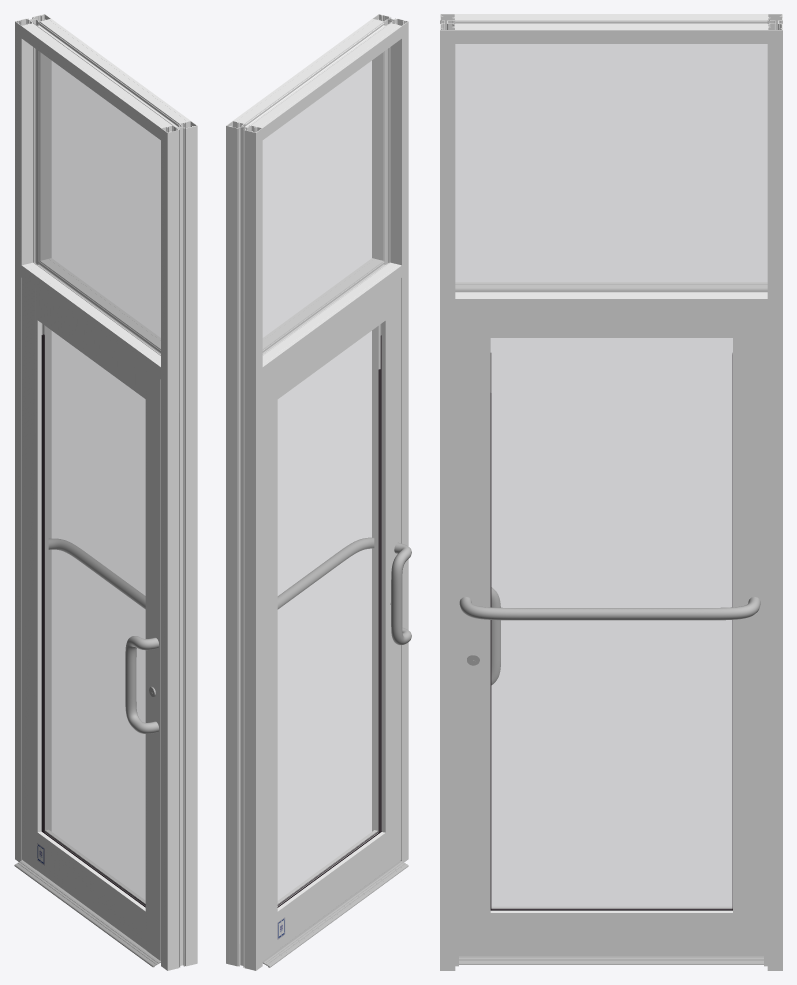
Rendered from Transomed_D350_Single_Animated_WT.glb.
3 views of the same model, side by side, from view 1: azimuth 30°, elevation 25°; view 2: azimuth 150°, elevation 25°; view 3: azimuth 270°, elevation 25° (orthographic). The views are drawn at different scales.
Visible parts, largest first — view 1: Cube.010, Cube.001, PROFILE_curve_.018, PROFILE_curve_.023, D350, PROFILE_curve_.019, PROFILE_curve_.063, PROFILE_curve_.062, PROFILE_curve_.061, PROFILE_curve_.001, PROFILE_curve_.014, PROFILE_curve_.002 (+6 smaller); view 2: Cube.010, Cube.001, PROFILE_curve_.022, PROFILE_curve_.019, PROFILE_curve_.063, PROFILE_curve_.023, D350, PROFILE_curve_.062, PROFILE_curve_.061, PROFILE_curve_.001, PROFILE_curve_.014, PROFILE_curve_.002 (+6 smaller); view 3: Cube.010, Cube.001, PROFILE_curve_.063, D350, PROFILE_curve_.023, PROFILE_curve_.019, PROFILE_curve_.062, PROFILE_curve_.061, PROFILE_curve_.008, PROFILE_curve_.002, PROFILE_curve_.014, PROFILE_curve_.001 (+6 smaller).
Part boxes in pixels (x1,y1,x2,y2): Cube.010: (42, 324, 145, 905); Cube.001: (34, 48, 160, 354); PROFILE_curve_.018: (170, 126, 194, 969); PROFILE_curve_.023: (15, 14, 51, 861); D350: (22, 278, 48, 870); PROFILE_curve_.019: (161, 121, 197, 970); PROFILE_curve_.063: (145, 369, 160, 960); PROFILE_curve_.062: (37, 830, 145, 949); PROFILE_curve_.061: (37, 289, 145, 398); PROFILE_curve_.001: (25, 19, 187, 127); PROFILE_curve_.014: (25, 259, 160, 363); PROFILE_curve_.002: (21, 19, 190, 139); Cube.010: (278, 324, 381, 906); Cube.001: (263, 48, 388, 354); PROFILE_curve_.022: (229, 126, 252, 969); PROFILE_curve_.019: (372, 14, 408, 862); PROFILE_curve_.063: (374, 278, 401, 870); PROFILE_curve_.023: (226, 121, 262, 970); D350: (262, 369, 277, 960); PROFILE_curve_.062: (277, 830, 385, 949); PROFILE_curve_.061: (277, 290, 385, 398); PROFILE_curve_.001: (236, 19, 398, 127); PROFILE_curve_.014: (262, 259, 398, 363); PROFILE_curve_.002: (233, 19, 401, 139); Cube.010: (491, 338, 732, 910); Cube.001: (455, 44, 767, 291); PROFILE_curve_.063: (459, 312, 490, 955); D350: (733, 312, 763, 955); PROFILE_curve_.023: (767, 14, 782, 970); PROFILE_curve_.019: (440, 14, 455, 970); PROFILE_curve_.062: (490, 906, 732, 955); PROFILE_curve_.061: (490, 312, 732, 337); PROFILE_curve_.008: (455, 282, 767, 312); PROFILE_curve_.002: (455, 14, 767, 43); PROFILE_curve_.014: (455, 284, 767, 297); PROFILE_curve_.001: (455, 15, 767, 28).
Size of the model in its own units: 0.2107 by 3.05 by 1.01.
Materials: 6 (1 with a texture image).
